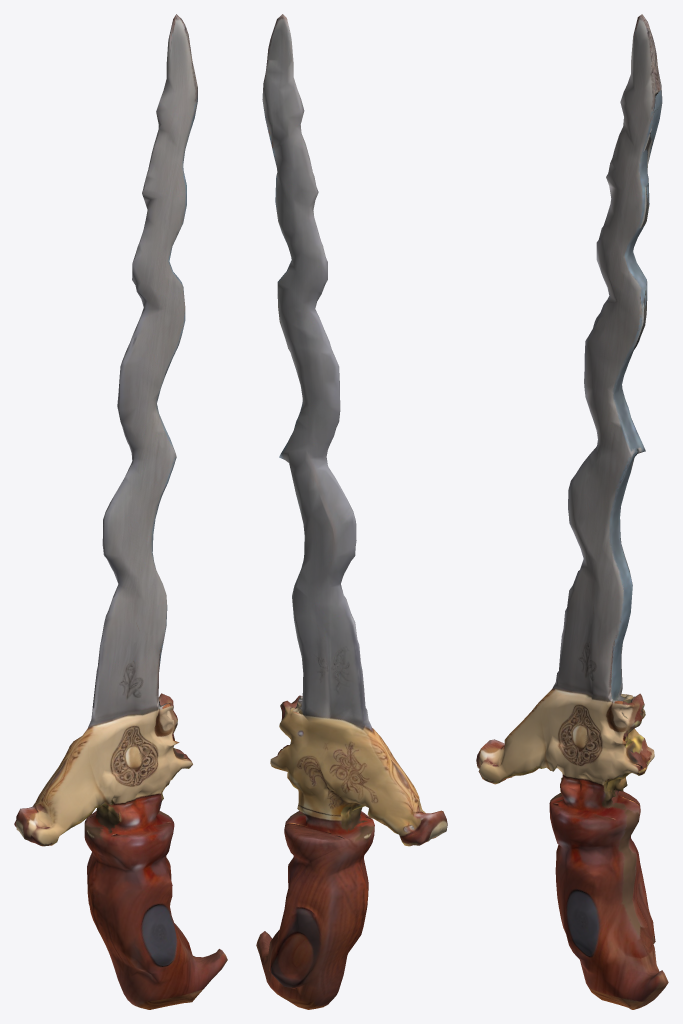
Rendered from Kris_and_Sheath_.glb.
The picture shows the model from 3 angles, left to right: view 1: azimuth 30°, elevation 25°; view 2: azimuth 150°, elevation 25°; view 3: azimuth 330°, elevation 25°; orthographic projection.
Parts seen in each view (by area): view 1: Mesh_0.175; view 2: Mesh_0.175; view 3: Mesh_0.175.
Boxes of the visible parts, x1=… form: Mesh_0.175: x1=14, y1=14, x2=227, y2=1009; Mesh_0.175: x1=256, y1=14, x2=447, y2=1009; Mesh_0.175: x1=476, y1=14, x2=668, y2=1009.
Size of the model in its own units: 0.3796 by 1.81 by 0.1624.
Materials: 1 (1 with a texture image).
